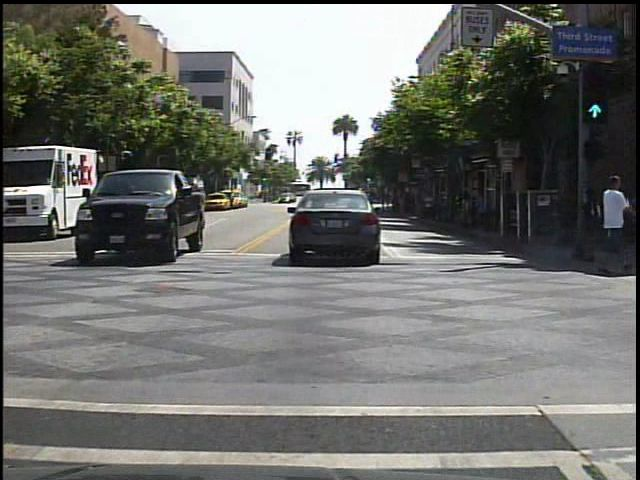person: (597, 164, 633, 271), (586, 172, 618, 268), (420, 189, 439, 224)
